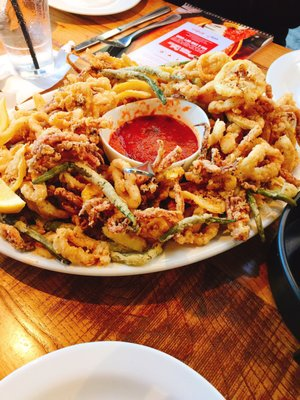pizza: (11, 0, 64, 80)
sandwich: (74, 6, 173, 51)
sushi: (0, 341, 227, 400)
